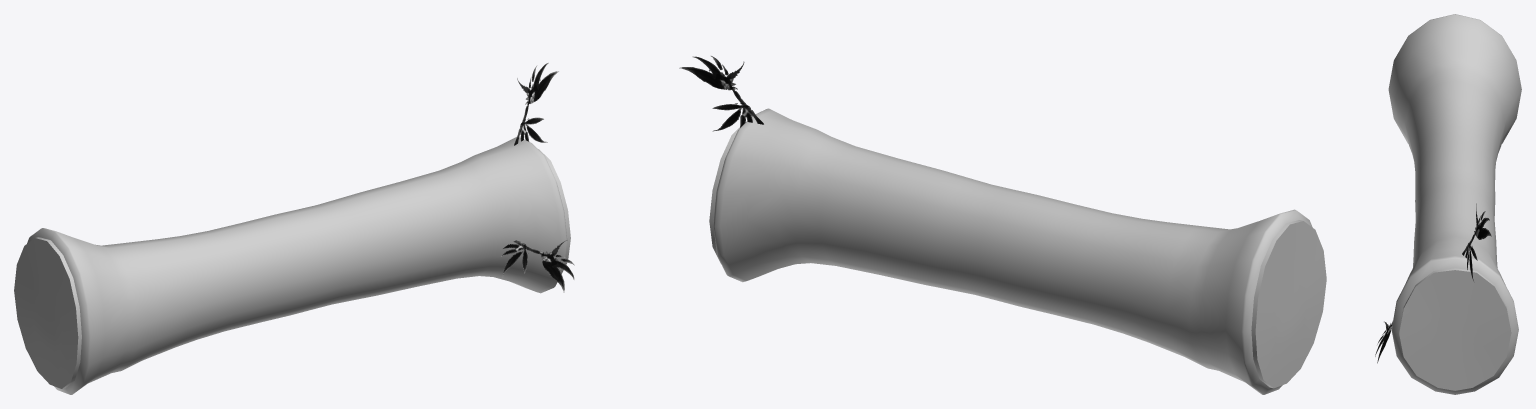
The model's file is Bamboo_3D.fbx.
The picture shows the model from 3 angles, left to right: view 1: azimuth 30°, elevation 25°; view 2: azimuth 150°, elevation 25°; view 3: azimuth 270°, elevation 25°; orthographic projection. The views are drawn at different scales.
Parts seen in each view (by area): view 1: Cylinder001, Plane004, Plane001; view 2: Cylinder001, Plane001; view 3: Cylinder001, Plane001, Plane004.
Part boxes in pixels (<box>): Cylinder001: <box>14,137,570,394</box>; Plane004: <box>501,240,574,292</box>; Plane001: <box>514,62,558,145</box>; Cylinder001: <box>709,108,1326,394</box>; Plane001: <box>679,56,763,131</box>; Cylinder001: <box>1388,14,1521,394</box>; Plane001: <box>1462,203,1491,282</box>; Plane004: <box>1375,321,1392,363</box>.
Bounding box in the file's own units: 11.21 × 4.71 × 3.06.
